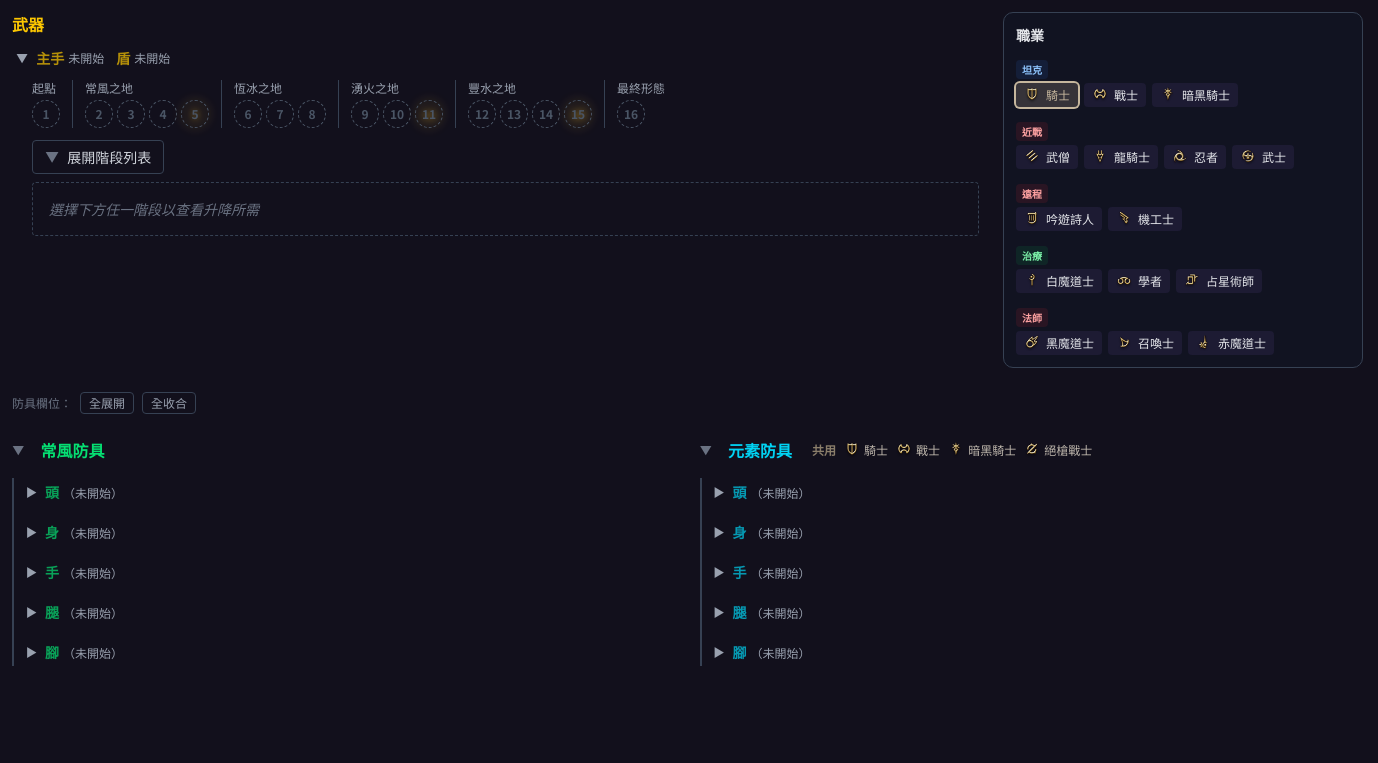
Test case: DetailTab › armor accordion › clicking 頭 header expands a collapsed head slot
Click the 1st button "▶ 頭（未開始）" at point(93, 492), box [22, 478, 676, 506]
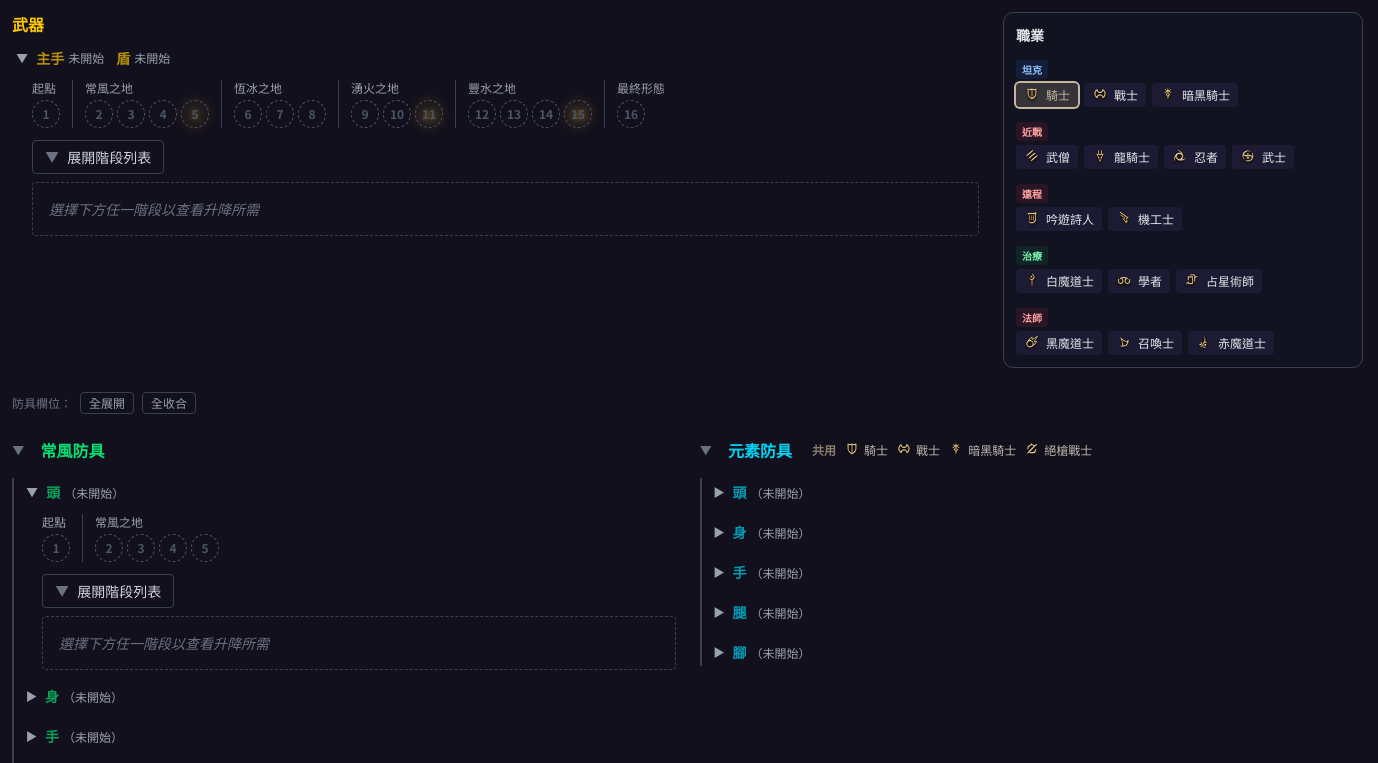
Expected: the button "▼ 頭（未開始）" is expanded, [22, 478, 676, 506]
